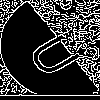U: (25, 25, 93, 81)
